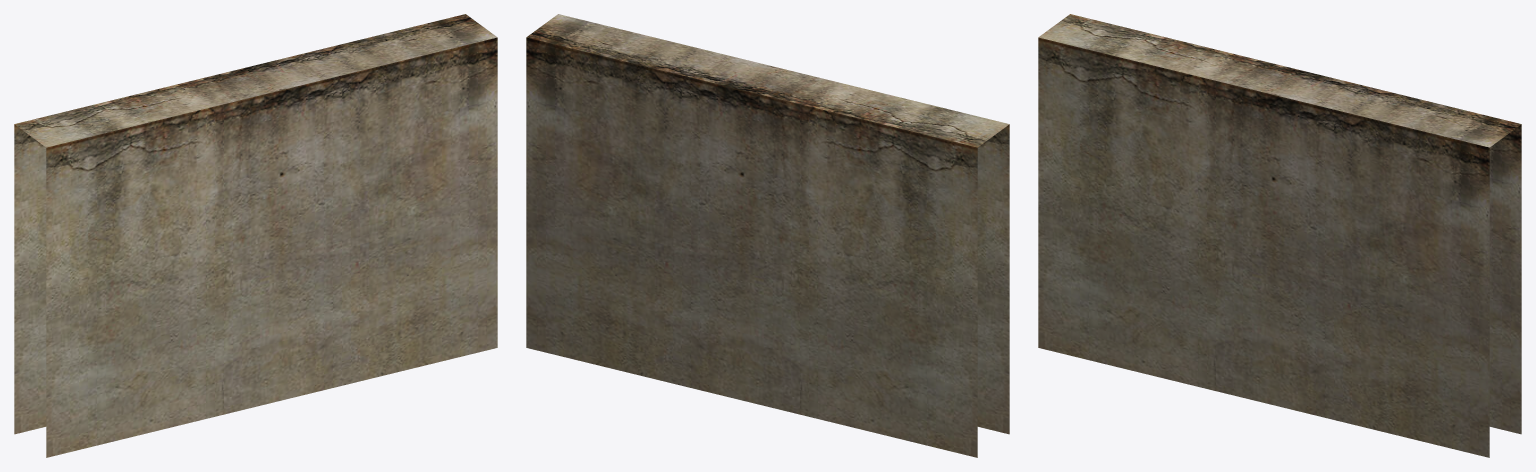
Rendered from Wall.fbx.
3 renders of one model, left to right at view 1: azimuth 30°, elevation 25°; view 2: azimuth 150°, elevation 25°; view 3: azimuth 330°, elevation 25°, orthographic.
Parts seen in each view (by area): view 1: Wall; view 2: Wall; view 3: Wall.
Boxes of the visible parts, bbox=[...] form: Wall: bbox=[14, 14, 497, 457]; Wall: bbox=[526, 14, 1009, 457]; Wall: bbox=[1038, 14, 1521, 457].
Size of the model in its own units: 279 by 184 by 34.35.
1 material, 1 textured.
